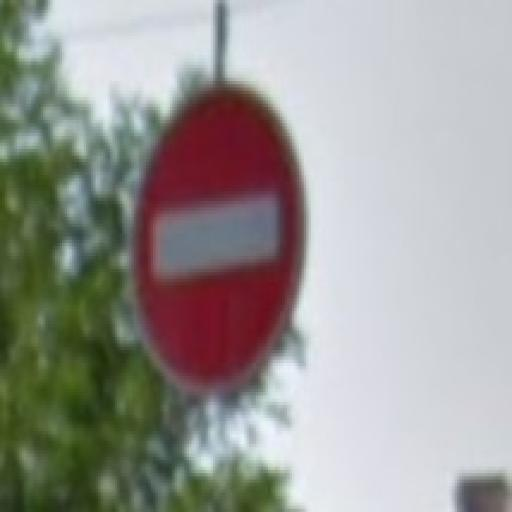traffic_sign: (133, 82, 307, 396)
